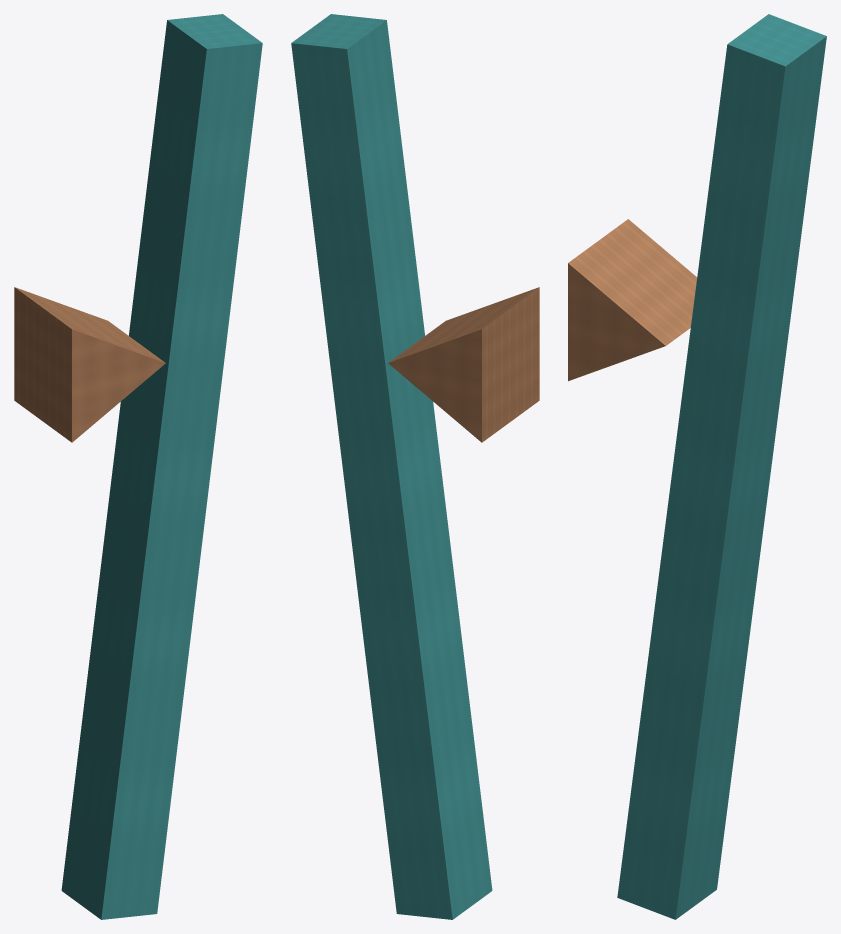
The model's file is atlas100-s093-a05.lod2.glb.
3 views of the same model, side by side, from view 1: azimuth 30°, elevation 25°; view 2: azimuth 150°, elevation 25°; view 3: azimuth 330°, elevation 25° (orthographic). The views are drawn at different scales.
Parts seen in each view (by area): view 1: atlas100-s093-a05:part-001, atlas100-s093-a05:part-002; view 2: atlas100-s093-a05:part-001, atlas100-s093-a05:part-002; view 3: atlas100-s093-a05:part-001, atlas100-s093-a05:part-002.
Part boxes in pixels (left/top/right/bottom): atlas100-s093-a05:part-001: left=61, top=14, right=262, bottom=919; atlas100-s093-a05:part-002: left=14, top=287, right=165, bottom=442; atlas100-s093-a05:part-001: left=291, top=14, right=492, bottom=919; atlas100-s093-a05:part-002: left=388, top=287, right=539, bottom=442; atlas100-s093-a05:part-001: left=617, top=14, right=826, bottom=919; atlas100-s093-a05:part-002: left=568, top=219, right=697, bottom=381.
Size of the model in its own units: 0.1741 by 0.7102 by 0.0874.
2 materials, 2 textured.
